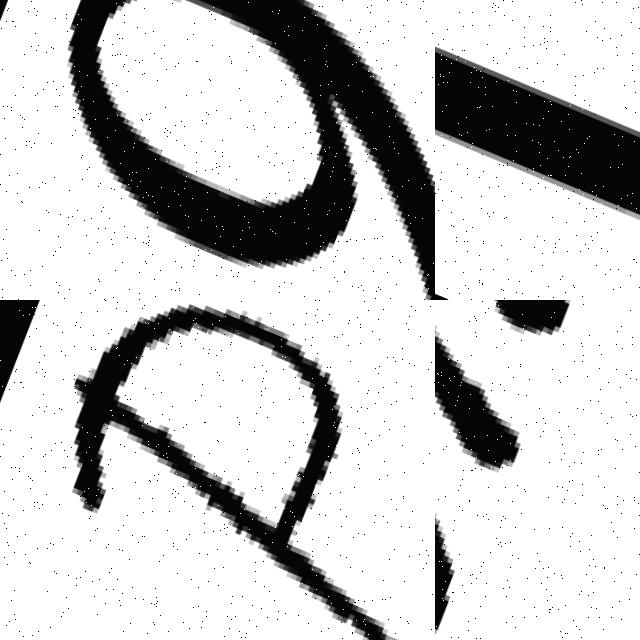9: (0, 0, 435, 300)
M: (435, 300, 634, 634)
P: (70, 301, 395, 640)
U: (435, 0, 640, 300)
